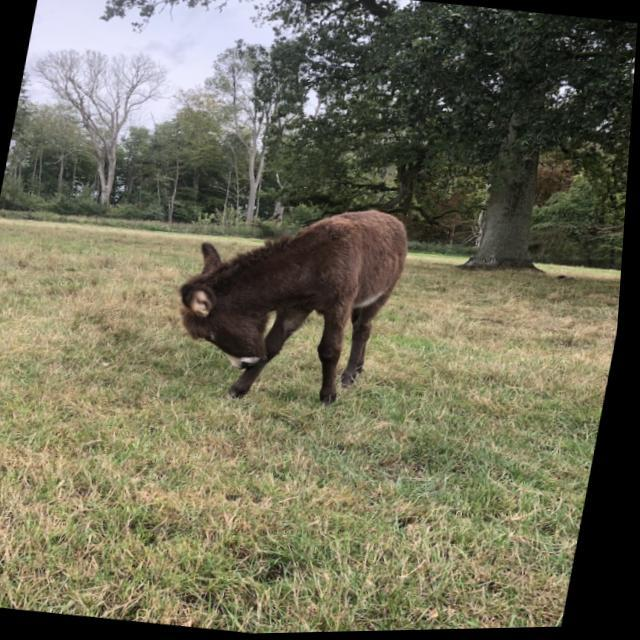Donkey: (160, 186, 421, 420)
